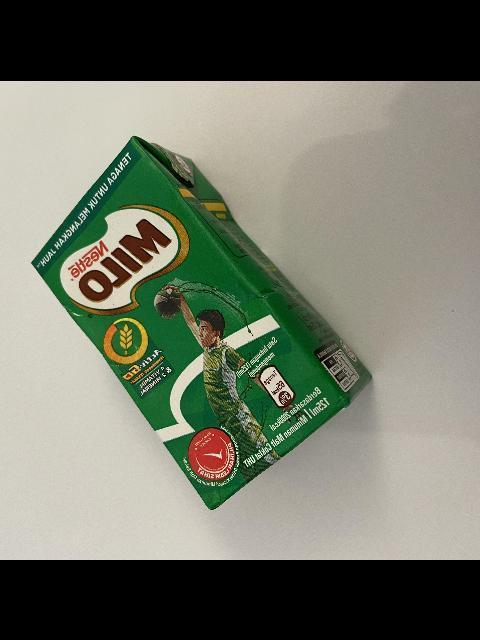drinkpack: (28, 132, 374, 512)
